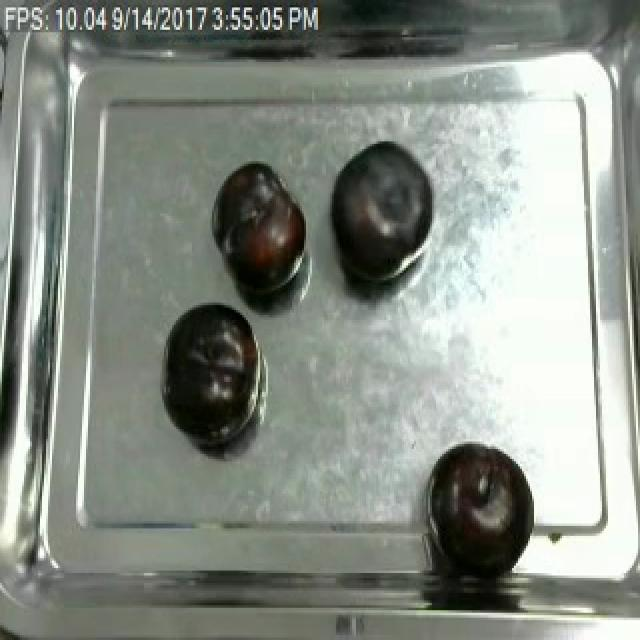Fruit: (326, 137, 440, 290), (158, 295, 260, 444), (428, 439, 534, 573), (210, 158, 310, 298)
